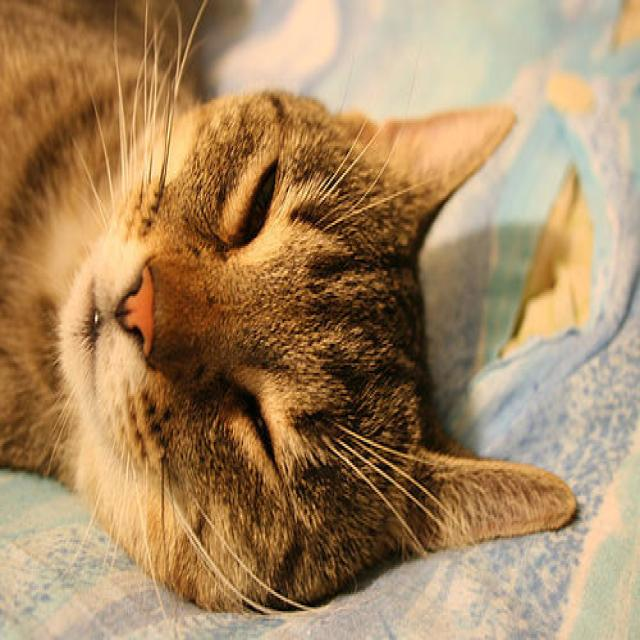left eye: (214, 359, 308, 506)
